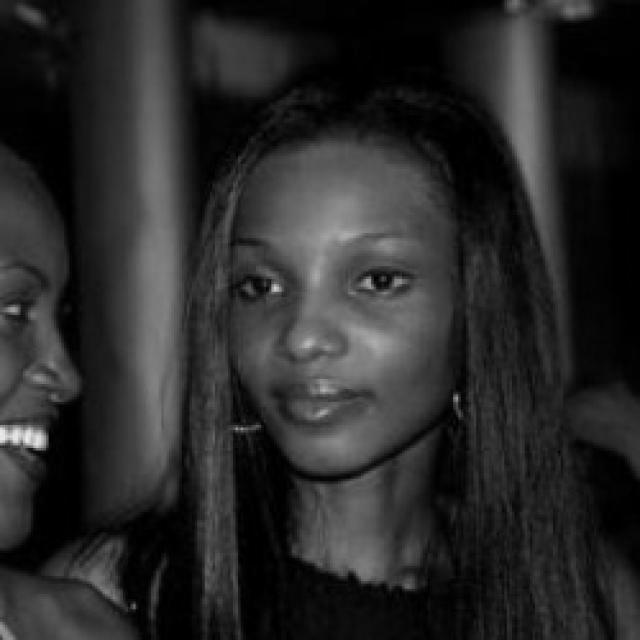real: (228, 126, 468, 484), (238, 262, 425, 322)
